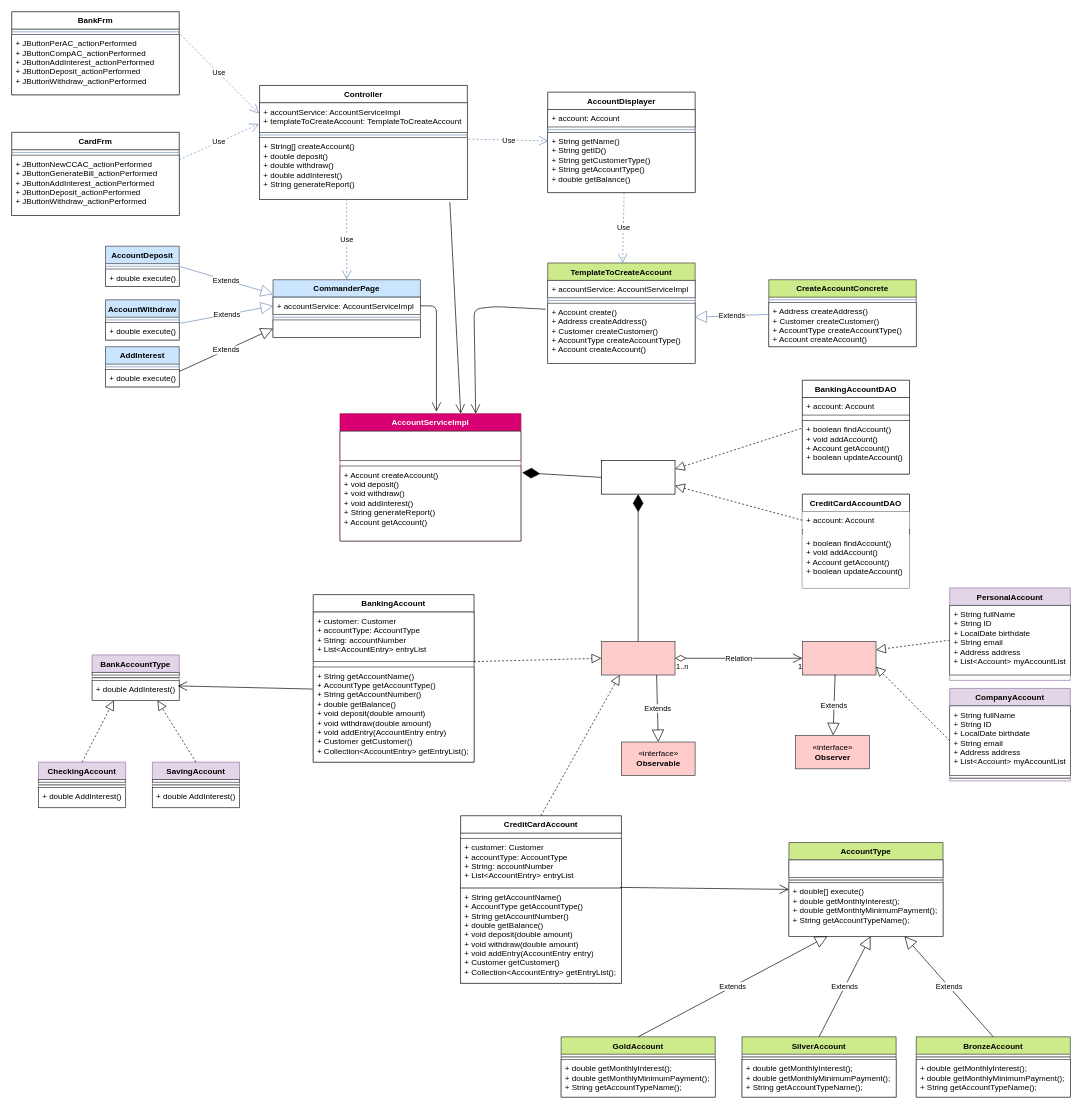
Some shapes in this 1082 by 1111 pixel diagram are drawn without their labels. Here are the shapes that lost their labels. From the top down, the centre of each, then its label:
At point (346, 328): "+ double execute()".
At point (430, 445): "+ final static accountService:AccountServiceImpl + accountDAO: AccountDAO".
At point (638, 477): "«interface» AccountDAO".
At point (638, 658): "«interface» Account".
At point (839, 658): "«interface» Customer".
At point (865, 868): "+ double[] result".
